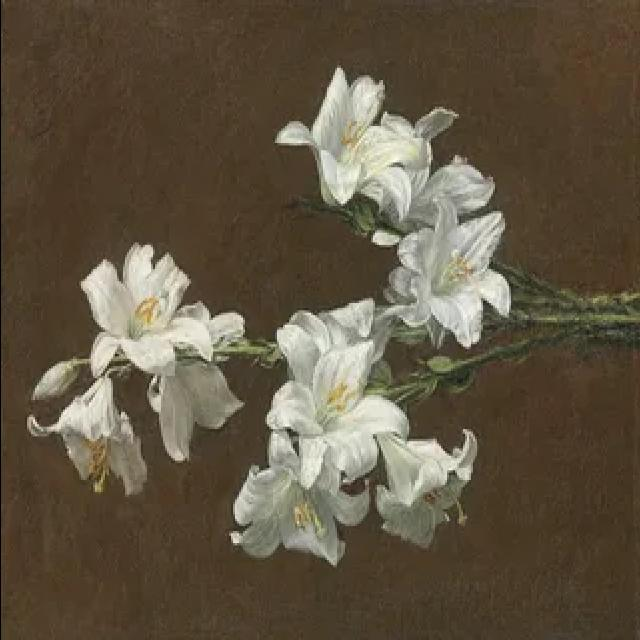lily: (260, 53, 448, 241), (64, 227, 225, 387)
